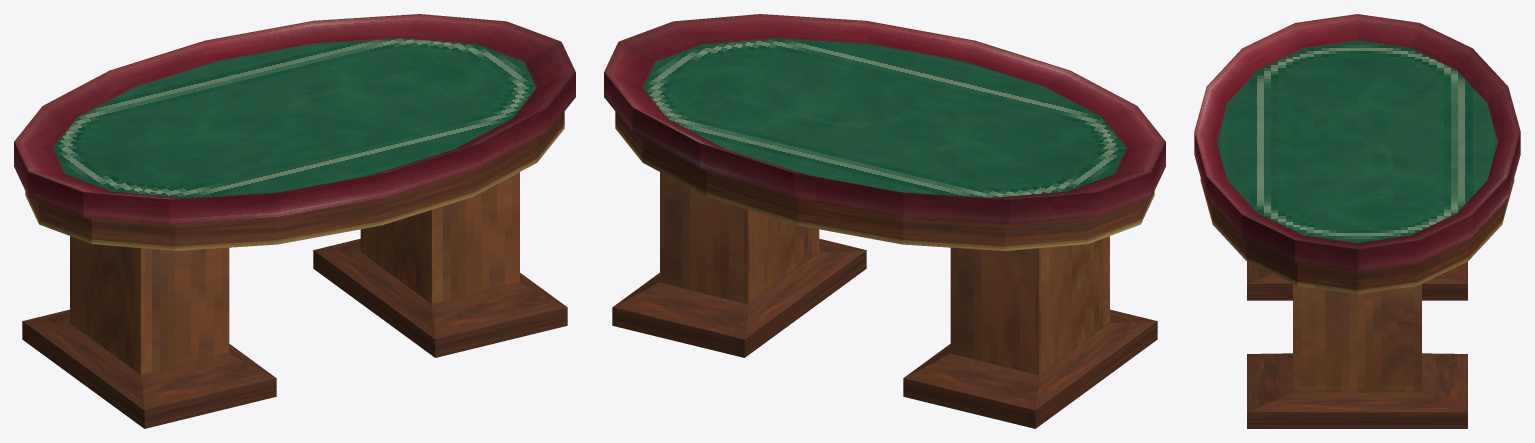
File: poker-table.glb
The picture shows the model from 3 angles, left to right: view 1: azimuth 30°, elevation 25°; view 2: azimuth 150°, elevation 25°; view 3: azimuth 270°, elevation 25°; orthographic projection. The views are drawn at different scales.
Visible parts, largest first — view 1: _MeshInstance3D_2; view 2: _MeshInstance3D_2; view 3: _MeshInstance3D_2.
Part boxes in pixels (x1,y1,x2,y2): _MeshInstance3D_2: [14, 14, 575, 428]; _MeshInstance3D_2: [604, 14, 1165, 428]; _MeshInstance3D_2: [1194, 14, 1520, 428].
Bounding box in the file's own units: 2.42 × 0.98 × 1.42.
1 material, 1 textured.
